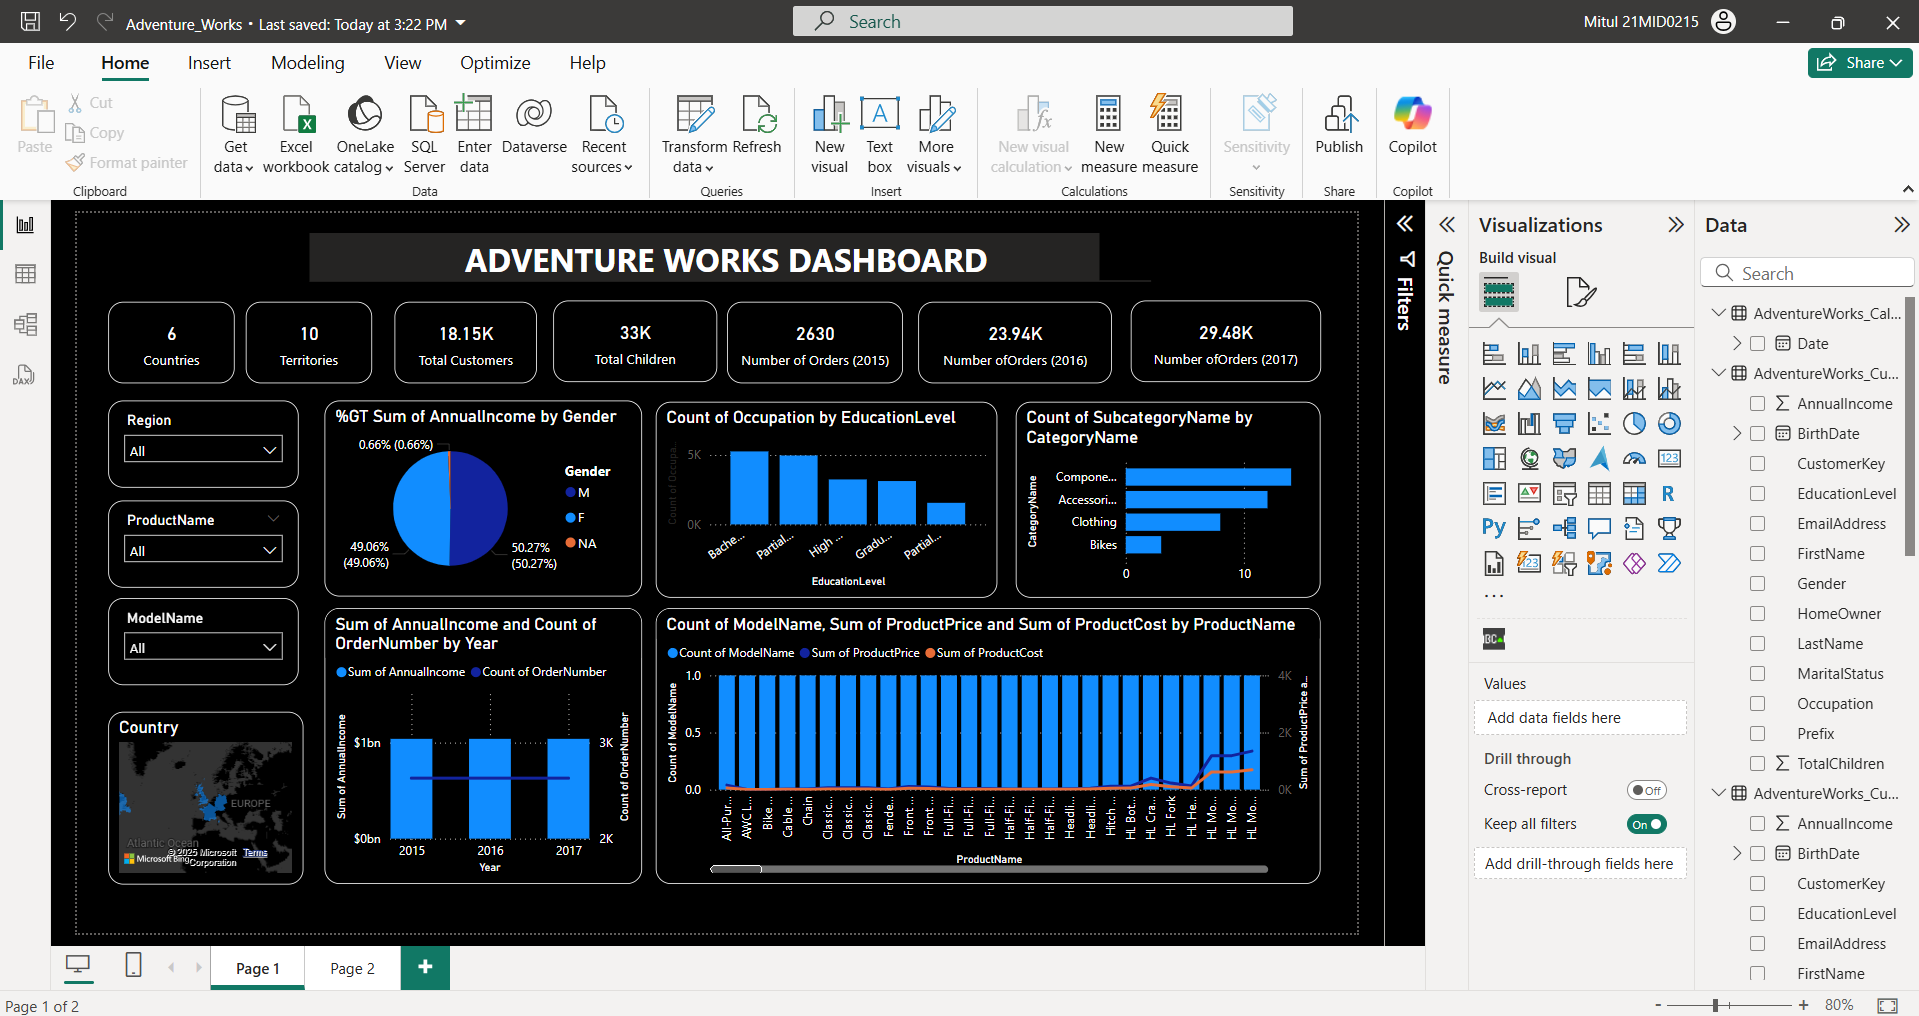

The dashboard page shown, as its layout file describes it:
{"tool":"powerbi","page":{"name":"Page 1","canvas":[1280,720],"ordinal":0},"visuals":[{"type":"textbox","box":[232.5,20,841.2,48.8],"z":0},{"type":"card","fields":{"Values":["Count(AdventureWorks_Territories.Country)"]},"box":[31.2,88.8,126.2,81.2],"z":1000},{"type":"pieChart","fields":{"Y":["Sum(AdventureWorks_Customers.AnnualIncome)"],"Category":["AdventureWorks_Customers.Gender"]},"box":[247.5,187.5,317.5,196.2],"z":2000},{"type":"columnChart","fields":{"Category":["AdventureWorks_Customers.EducationLevel"],"Y":["CountNonNull(AdventureWorks_Customers.Occupation)"]},"box":[578.8,188.8,341.2,196.2],"z":3000},{"type":"slicer","fields":{"Values":["AdventureWorks_Customers (2).Region"]},"box":[31.2,187.5,190,87.5],"z":4000},{"type":"barChart","fields":{"Y":["CountNonNull(AdventureWorks_Product_Subcategories.SubcategoryName)"],"Category":["AdventureWorks_Product_Categories.CategoryName"]},"box":[938.8,188.8,305,196.2],"z":5000},{"type":"card","fields":{"Values":["Sum(AdventureWorks_Customers.TotalChildren)"]},"box":[476.2,87.5,163.8,81.2],"z":6000},{"type":"card","fields":{"Values":["CountNonNull(AdventureWorks_Customers.CustomerKey)"]},"box":[317.5,88.8,142.5,81.2],"z":7000},{"type":"card","fields":{"Values":["CountNonNull(AdventureWorks_Sales_2015.OrderNumber)"]},"box":[650,88.8,176.2,81.2],"z":8000},{"type":"card","fields":{"Values":["CountNonNull(AdventureWorks_Sales_2016.OrderNumber)"]},"box":[841.2,88.8,193.8,81.2],"z":9000},{"type":"card","fields":{"Values":["CountNonNull(AdventureWorks_Sales_2017.OrderNumber)"]},"box":[1053.8,87.5,190,81.2],"z":10000},{"type":"lineStackedColumnComboChart","fields":{"Category":["AdventureWorks_Calendar.Date.Variation.Date Hierarchy.Year","AdventureWorks_Calendar.Date.Variation.Date Hierarchy.Quarter","AdventureWorks_Calendar.Date.Variation.Date Hierarchy.Month","AdventureWorks_Calendar.Date.Variation.Date Hierarchy.Day"],"Y":["Sum(AdventureWorks_Customers (2).AnnualIncome)"],"Y2":["CountNonNull(AdventureWorks_Sales_2015.OrderNumber)"]},"box":[247.5,395,317.5,276.2],"z":11000},{"type":"card","fields":{"Values":["CountNonNull(AdventureWorks_Territories.SalesTerritoryKey)"]},"box":[168.8,88.8,126.2,81.2],"z":12000},{"type":"filledMap","fields":{"Category":["AdventureWorks_Territories.Country"]},"box":[31.2,498.8,195,172.5],"z":13000},{"type":"lineStackedColumnComboChart","fields":{"Y":["CountNonNull(AdventureWorks_Products.ModelName)"],"Category":["AdventureWorks_Products.ProductName"],"Y2":["Sum(AdventureWorks_Products.ProductPrice)","Sum(AdventureWorks_Products.ProductCost)"]},"box":[578.8,395,665,276.2],"z":16000},{"type":"slicer","fields":{"Values":["AdventureWorks_Products.ProductName"]},"box":[31.2,287.5,190,87.5],"z":16001},{"type":"slicer","fields":{"Values":["AdventureWorks_Products.ModelName"]},"box":[31.2,385,190,87.5],"z":16002},{"type":"shape","box":[1022.5,20,257.5,47.5],"z":16003}]}

Visuals, with their boxes on the page's 1280x720 design canvas (x1, y1, x2, y2). These are canvas units, not pixel positions in the 1919x1016 screenshot, which may show the page scaled, cropped or inside an application window:
textbox: <box>232,20,1074,69</box>
card - Count(AdventureWorks_Territories.Country): <box>31,89,157,170</box>
pieChart - Sum(AdventureWorks_Customers.AnnualIncome) x AdventureWorks_Customers.Gender: <box>248,188,565,384</box>
columnChart - AdventureWorks_Customers.EducationLevel x CountNonNull(AdventureWorks_Customers.Occupation): <box>579,189,920,385</box>
slicer - AdventureWorks_Customers (2).Region: <box>31,188,221,275</box>
barChart - CountNonNull(AdventureWorks_Product_Subcategories.SubcategoryName) x AdventureWorks_Product_Categories.CategoryName: <box>939,189,1244,385</box>
card - Sum(AdventureWorks_Customers.TotalChildren): <box>476,88,640,169</box>
card - CountNonNull(AdventureWorks_Customers.CustomerKey): <box>318,89,460,170</box>
card - CountNonNull(AdventureWorks_Sales_2015.OrderNumber): <box>650,89,826,170</box>
card - CountNonNull(AdventureWorks_Sales_2016.OrderNumber): <box>841,89,1035,170</box>
card - CountNonNull(AdventureWorks_Sales_2017.OrderNumber): <box>1054,88,1244,169</box>
lineStackedColumnComboChart - AdventureWorks_Calendar.Date.Variation.Date Hierarchy.Year x AdventureWorks_Calendar.Date.Variation.Date Hierarchy.Quarter: <box>248,395,565,671</box>
card - CountNonNull(AdventureWorks_Territories.SalesTerritoryKey): <box>169,89,295,170</box>
filledMap - AdventureWorks_Territories.Country: <box>31,499,226,671</box>
lineStackedColumnComboChart - CountNonNull(AdventureWorks_Products.ModelName) x AdventureWorks_Products.ProductName: <box>579,395,1244,671</box>
slicer - AdventureWorks_Products.ProductName: <box>31,288,221,375</box>
slicer - AdventureWorks_Products.ModelName: <box>31,385,221,472</box>
shape: <box>1022,20,1280,68</box>
